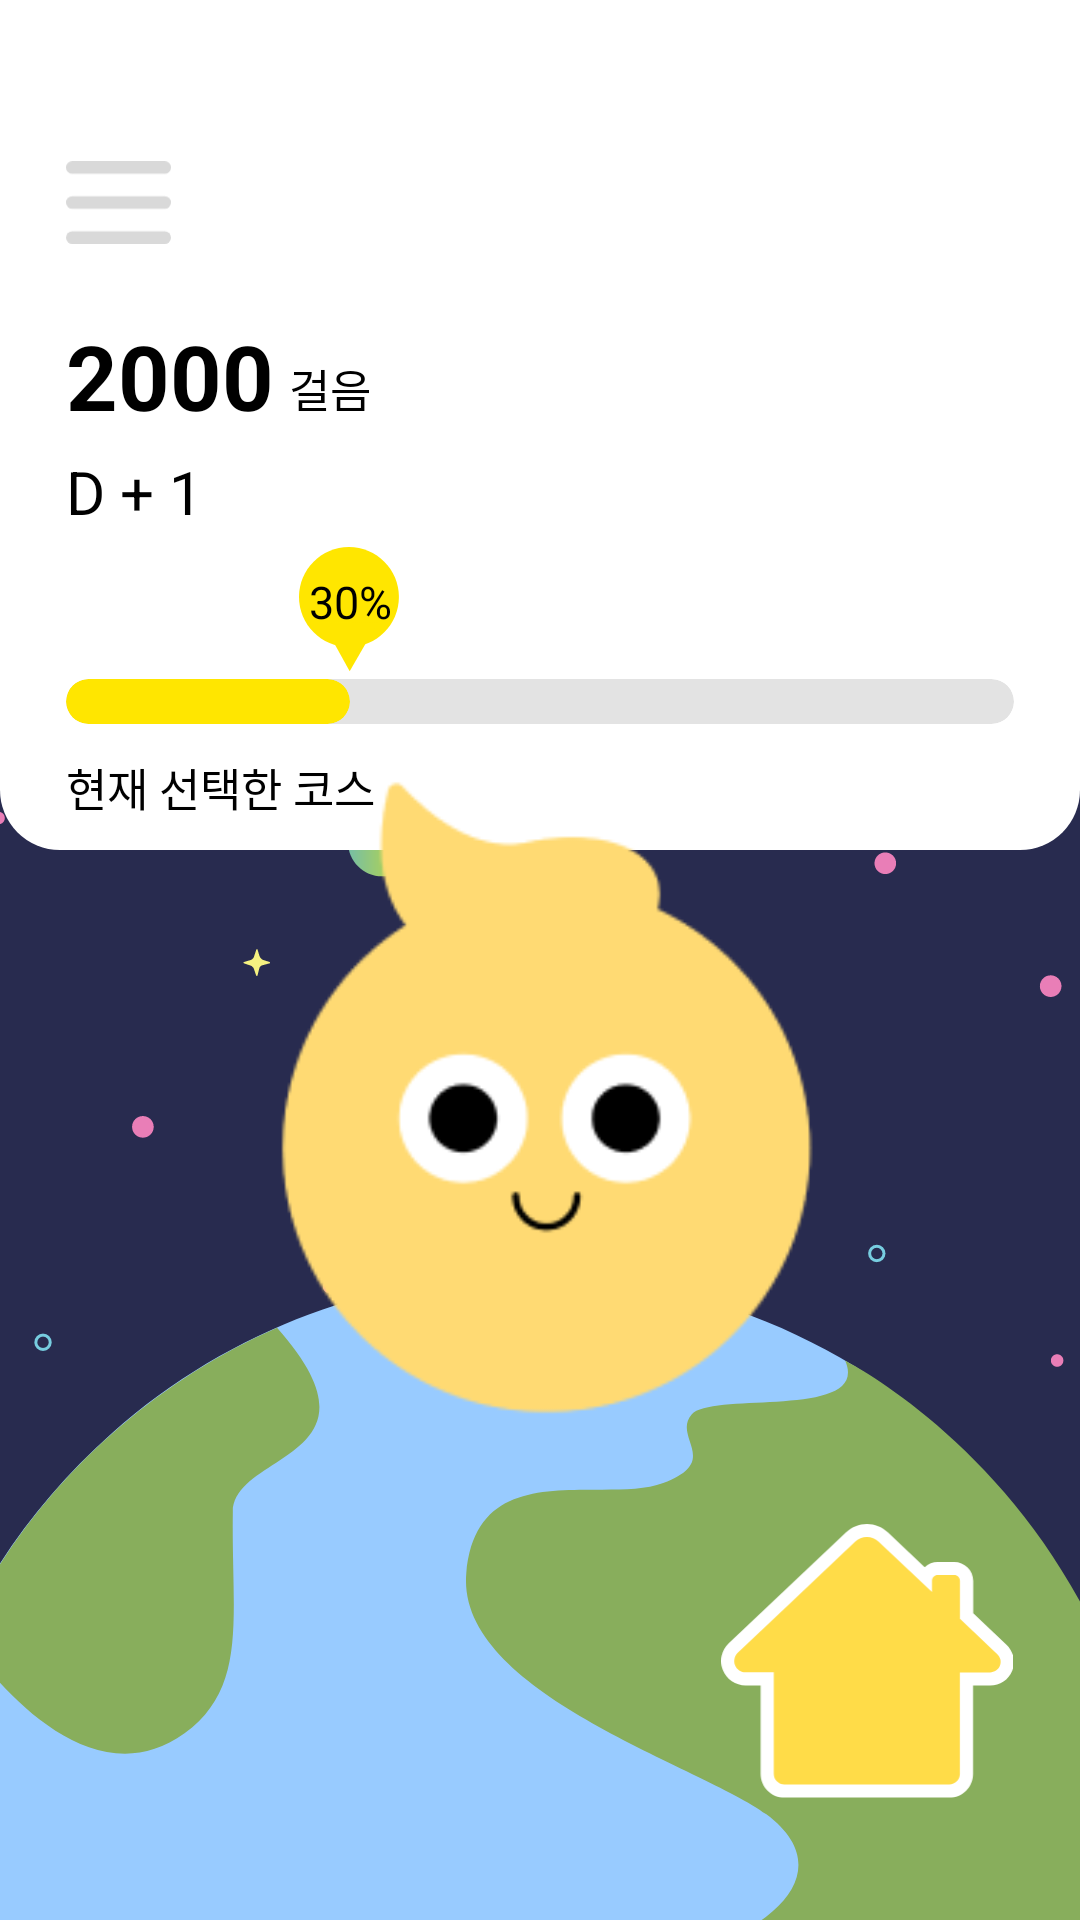

Named icons in this screenshot (1080 x 1920) and their bounding boxes, {"left": x1, "top": y1, "right": x2, "bottom": y2}:
bubble: {"left": 299, "top": 547, "right": 399, "bottom": 671}
go charhome: {"left": 721, "top": 1524, "right": 1013, "bottom": 1798}
hamburger: {"left": 66, "top": 161, "right": 171, "bottom": 244}
